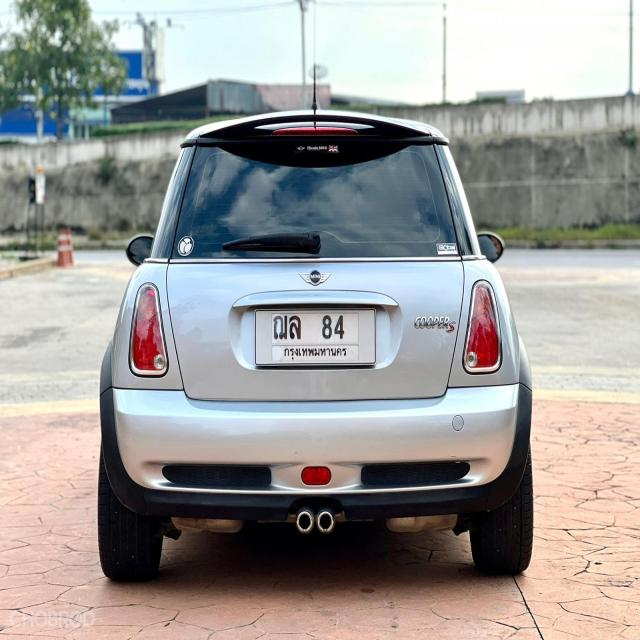license_plate: (253, 301, 379, 367)
